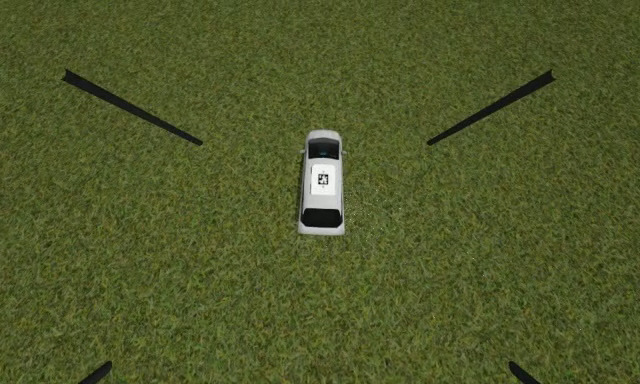Car: (299, 129, 345, 235)
Landing Pad: (311, 164, 334, 196)
